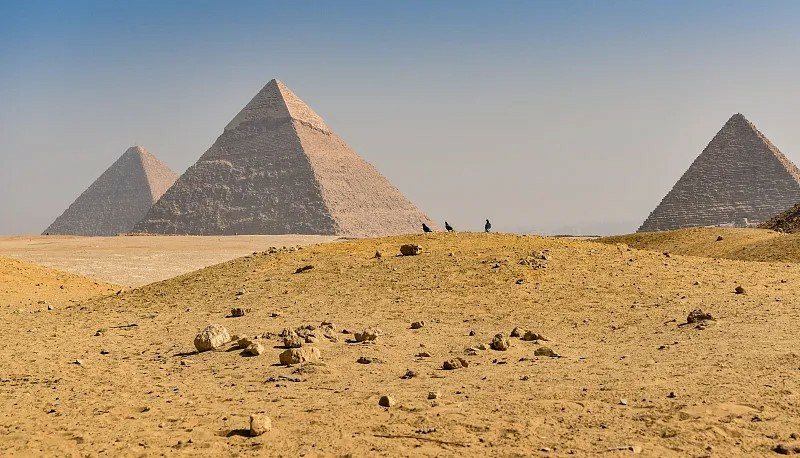Pyramid: (128, 78, 442, 238), (633, 113, 800, 227), (44, 147, 179, 237)
